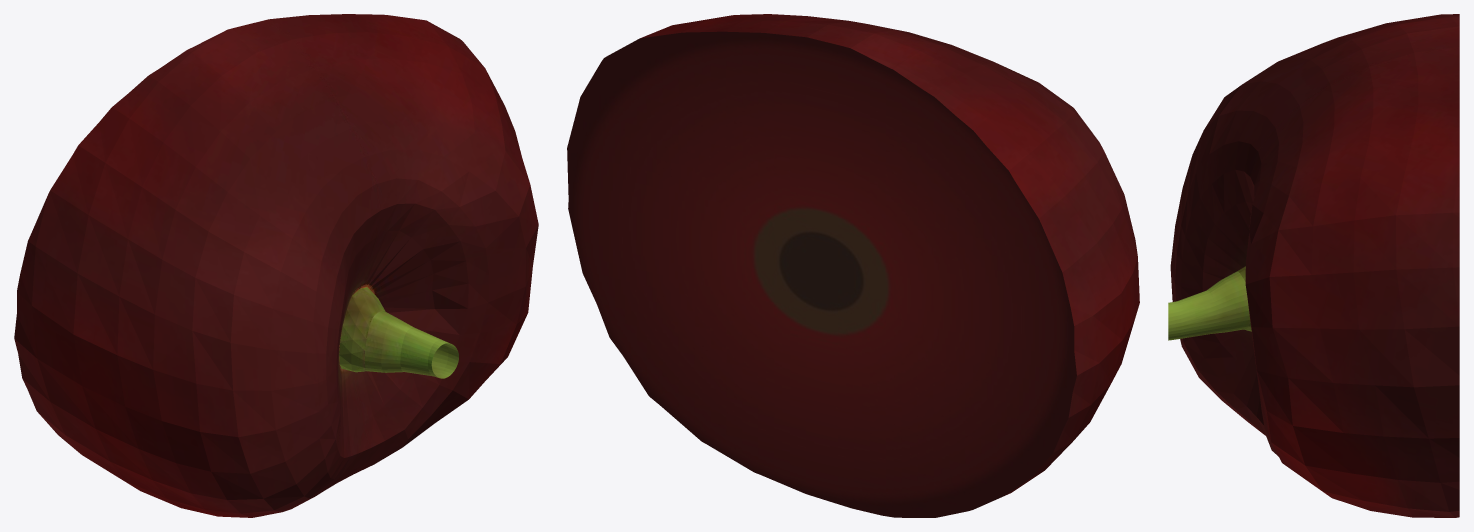
The model's file is cherry_right.obj.
3 renders of one model, left to right at view 1: azimuth 30°, elevation 25°; view 2: azimuth 150°, elevation 25°; view 3: azimuth 270°, elevation 25°, orthographic. The views are drawn at different scales.
Parts seen in each view (by area): view 1: fruit_half; view 2: fruit_half; view 3: fruit_half.
Part boxes in pixels (x1,y1,x2,y2): fruit_half: (14, 14, 538, 517); fruit_half: (567, 14, 1139, 517); fruit_half: (1168, 14, 1459, 517).
Bounding box in the file's own units: 5.14 × 4.49 × 2.61.
